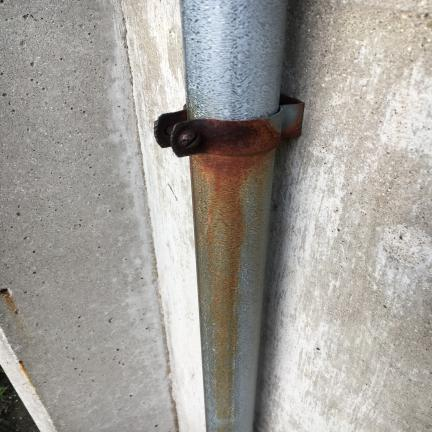besi_tidak_karat: (180, 0, 287, 120)
karat: (154, 95, 303, 157)
